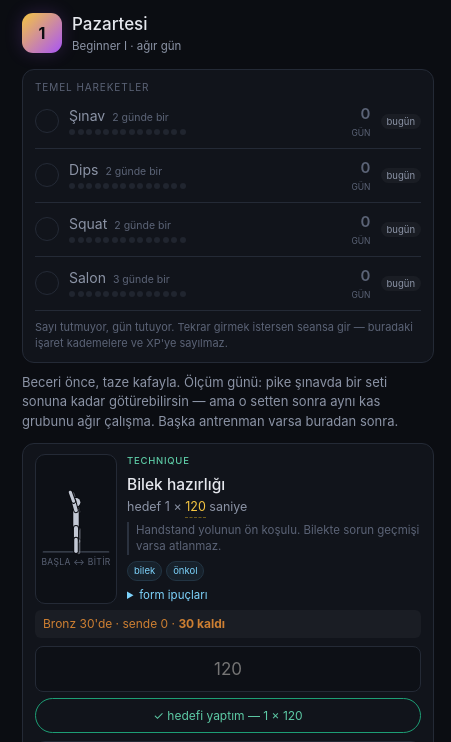
Test: hedef elle değiştirilebilir › hedefe dokununca düzenleme açılır ve kaydedilir
What coordinates should you click on to do the following:
click the button titled "hedefi değiştir"
I would click on:
 (196, 508)
Its box is [185,498,206,518].
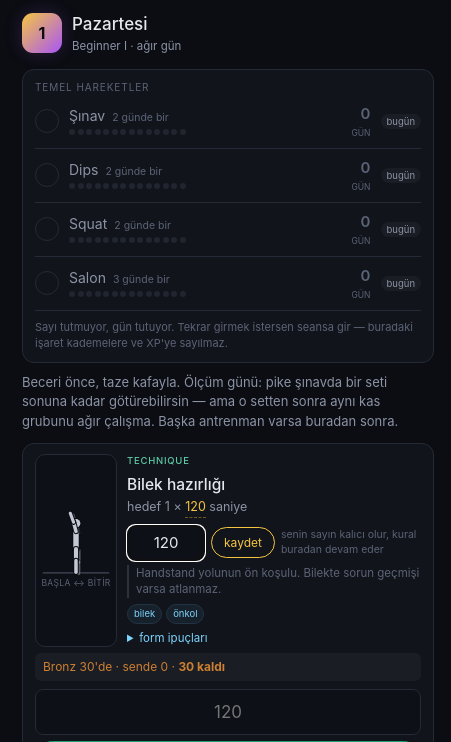
Check: the button "kaydet" is shown, box [211,527,275,558]
Check: the text "senin sayın kalıcı olur, kural buradan devam eder" is shown, box [281,528,421,557]
